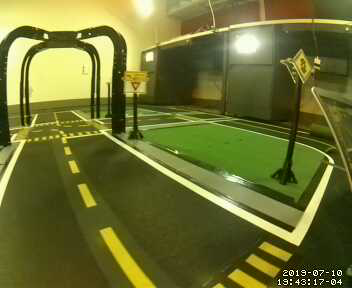Turn Yield: (124, 69, 149, 96)
